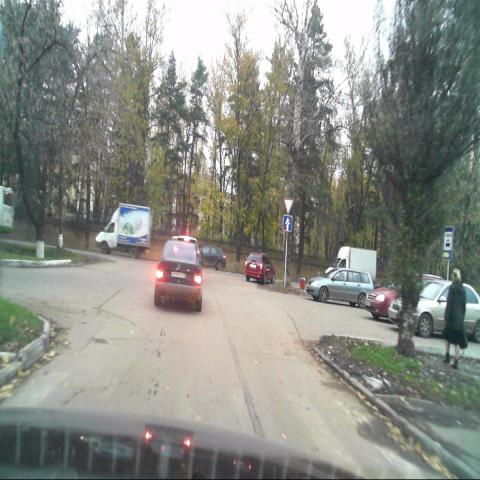5_18: (444, 227, 453, 260)
